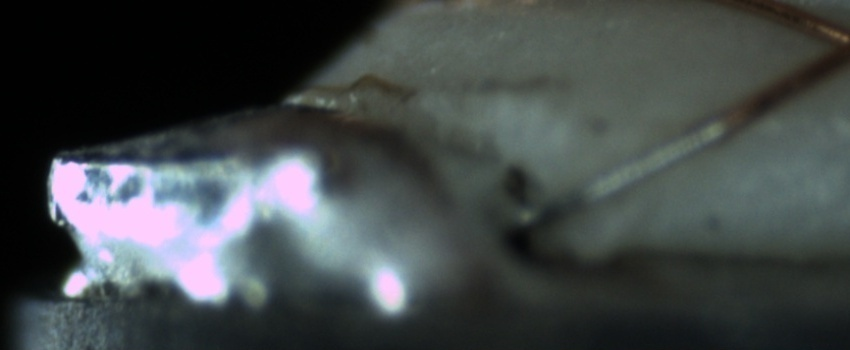CL: (803, 10, 850, 79)
TS: (528, 113, 734, 224)
